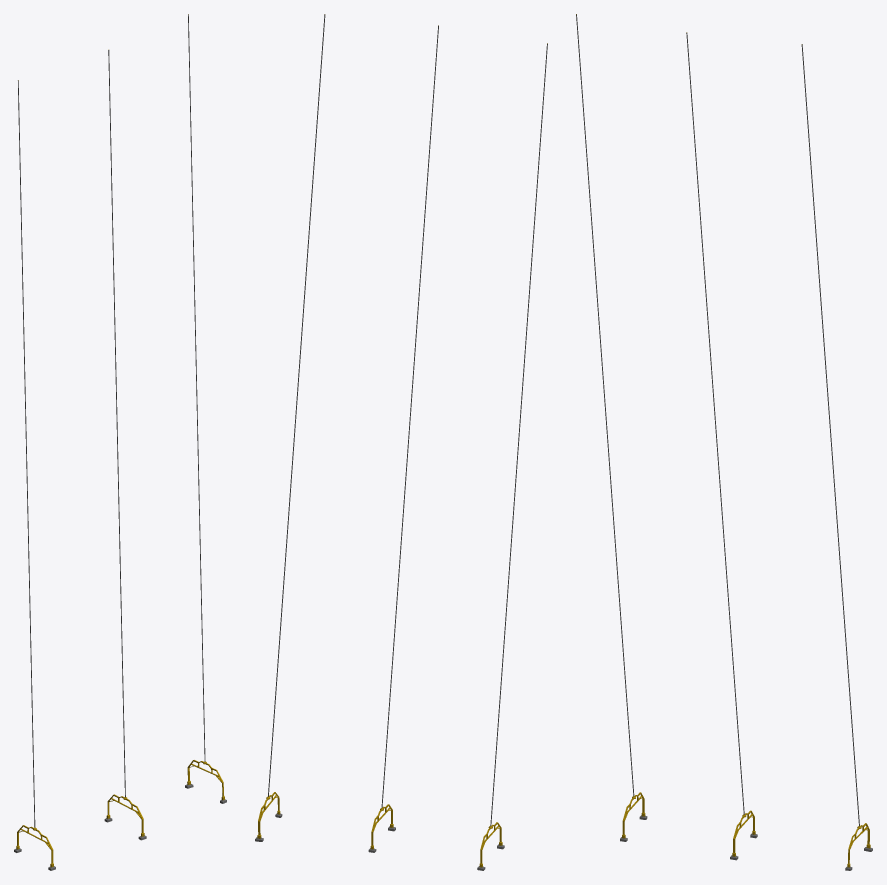
File: Halterung10.fbx
3 renders of one model, left to right at view 1: azimuth 30°, elevation 25°; view 2: azimuth 150°, elevation 25°; view 3: azimuth 330°, elevation 25°, orthographic. The views are drawn at different scales.
Visible parts, largest first — view 1: HalterungSlalom2; view 2: HalterungSlalom2; view 3: HalterungSlalom2.
Part boxes in pixels (x1,y1,x2,y2): HalterungSlalom2: (14, 14, 226, 870); HalterungSlalom2: (255, 14, 547, 870); HalterungSlalom2: (576, 14, 872, 870).
Bounding box in the file's own units: 23004 × 74065 × 9849.
